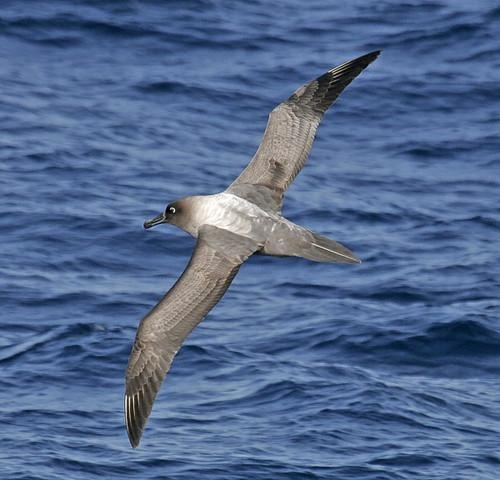bird: (119, 48, 387, 451)
